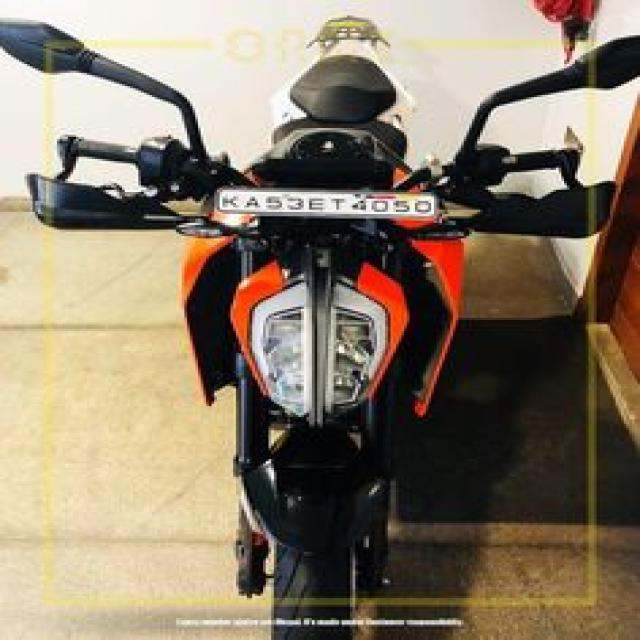plate: (212, 186, 448, 222)
